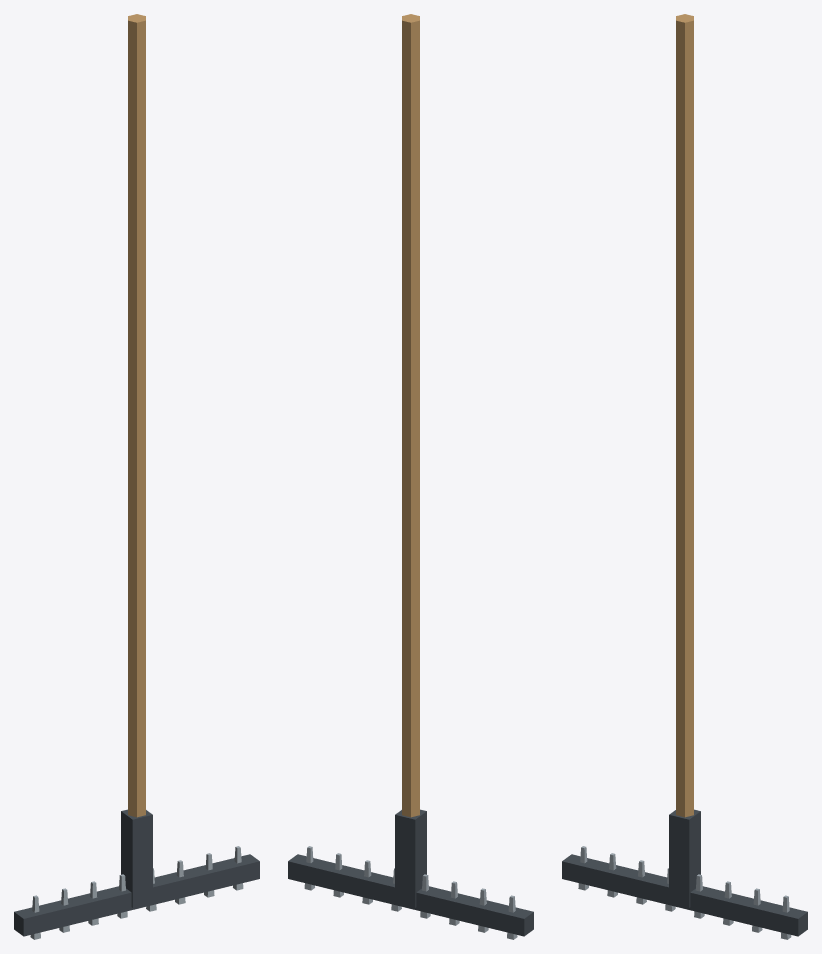
The model's file is GT_Rake_01.glb.
The picture shows the model from 3 angles, left to right: view 1: azimuth 30°, elevation 25°; view 2: azimuth 150°, elevation 25°; view 3: azimuth 330°, elevation 25°; orthographic projection.
Parts seen in each view (by area): view 1: GT_Rake_01; view 2: GT_Rake_01; view 3: GT_Rake_01.
Part boxes in pixels (<box>): GT_Rake_01: <box>14,14,259,939</box>; GT_Rake_01: <box>288,14,533,939</box>; GT_Rake_01: <box>562,14,807,939</box>.
Bounding box in the file's own units: 0.42 × 1.52 × 0.036.
Materials: 1 (1 with a texture image).
